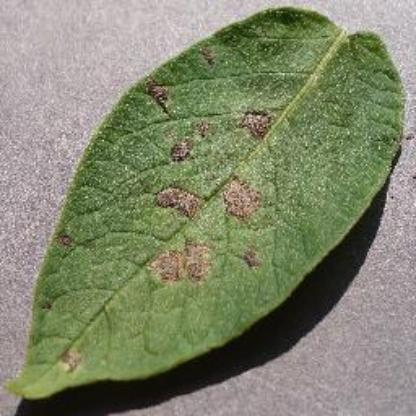Early-Blight: (4, 0, 406, 416)
